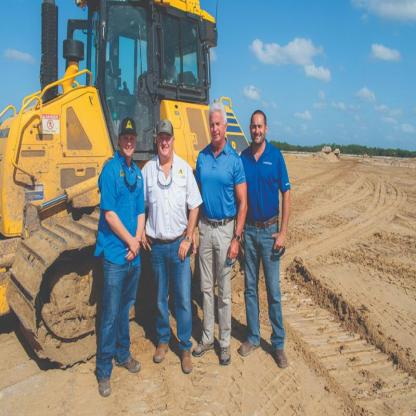person: (141, 105, 202, 377), (89, 101, 141, 384), (243, 93, 295, 372), (196, 95, 243, 376)
